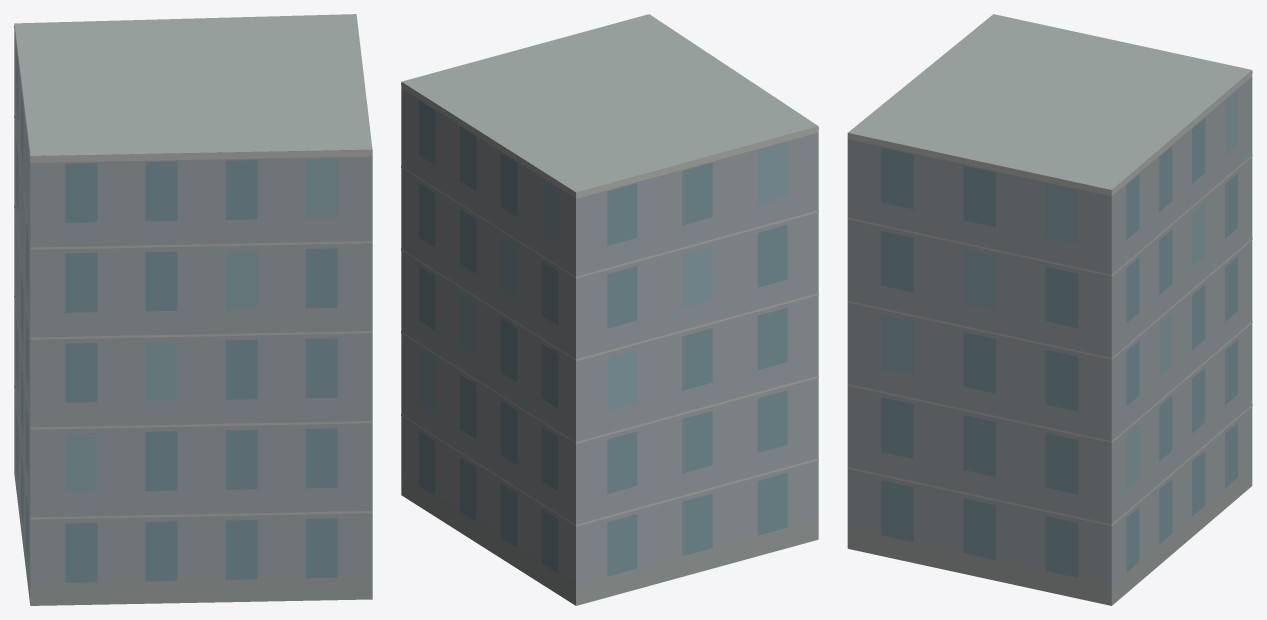
File: survey-upis-32974209.glb
3 renders of one model, left to right at view 1: azimuth 30°, elevation 25°; view 2: azimuth 150°, elevation 25°; view 3: azimuth 270°, elevation 25°, orthographic. The views are drawn at different scales.
Visible parts, largest first — view 1: survey-upis-32974209.tmp; view 2: survey-upis-32974209.tmp; view 3: survey-upis-32974209.tmp.
Boxes of the visible parts, <box> form: survey-upis-32974209.tmp: <box>14,14,372,605</box>; survey-upis-32974209.tmp: <box>401,14,818,605</box>; survey-upis-32974209.tmp: <box>847,14,1252,605</box>.
Bounding box in the file's own units: 14.41 × 15.85 × 14.
